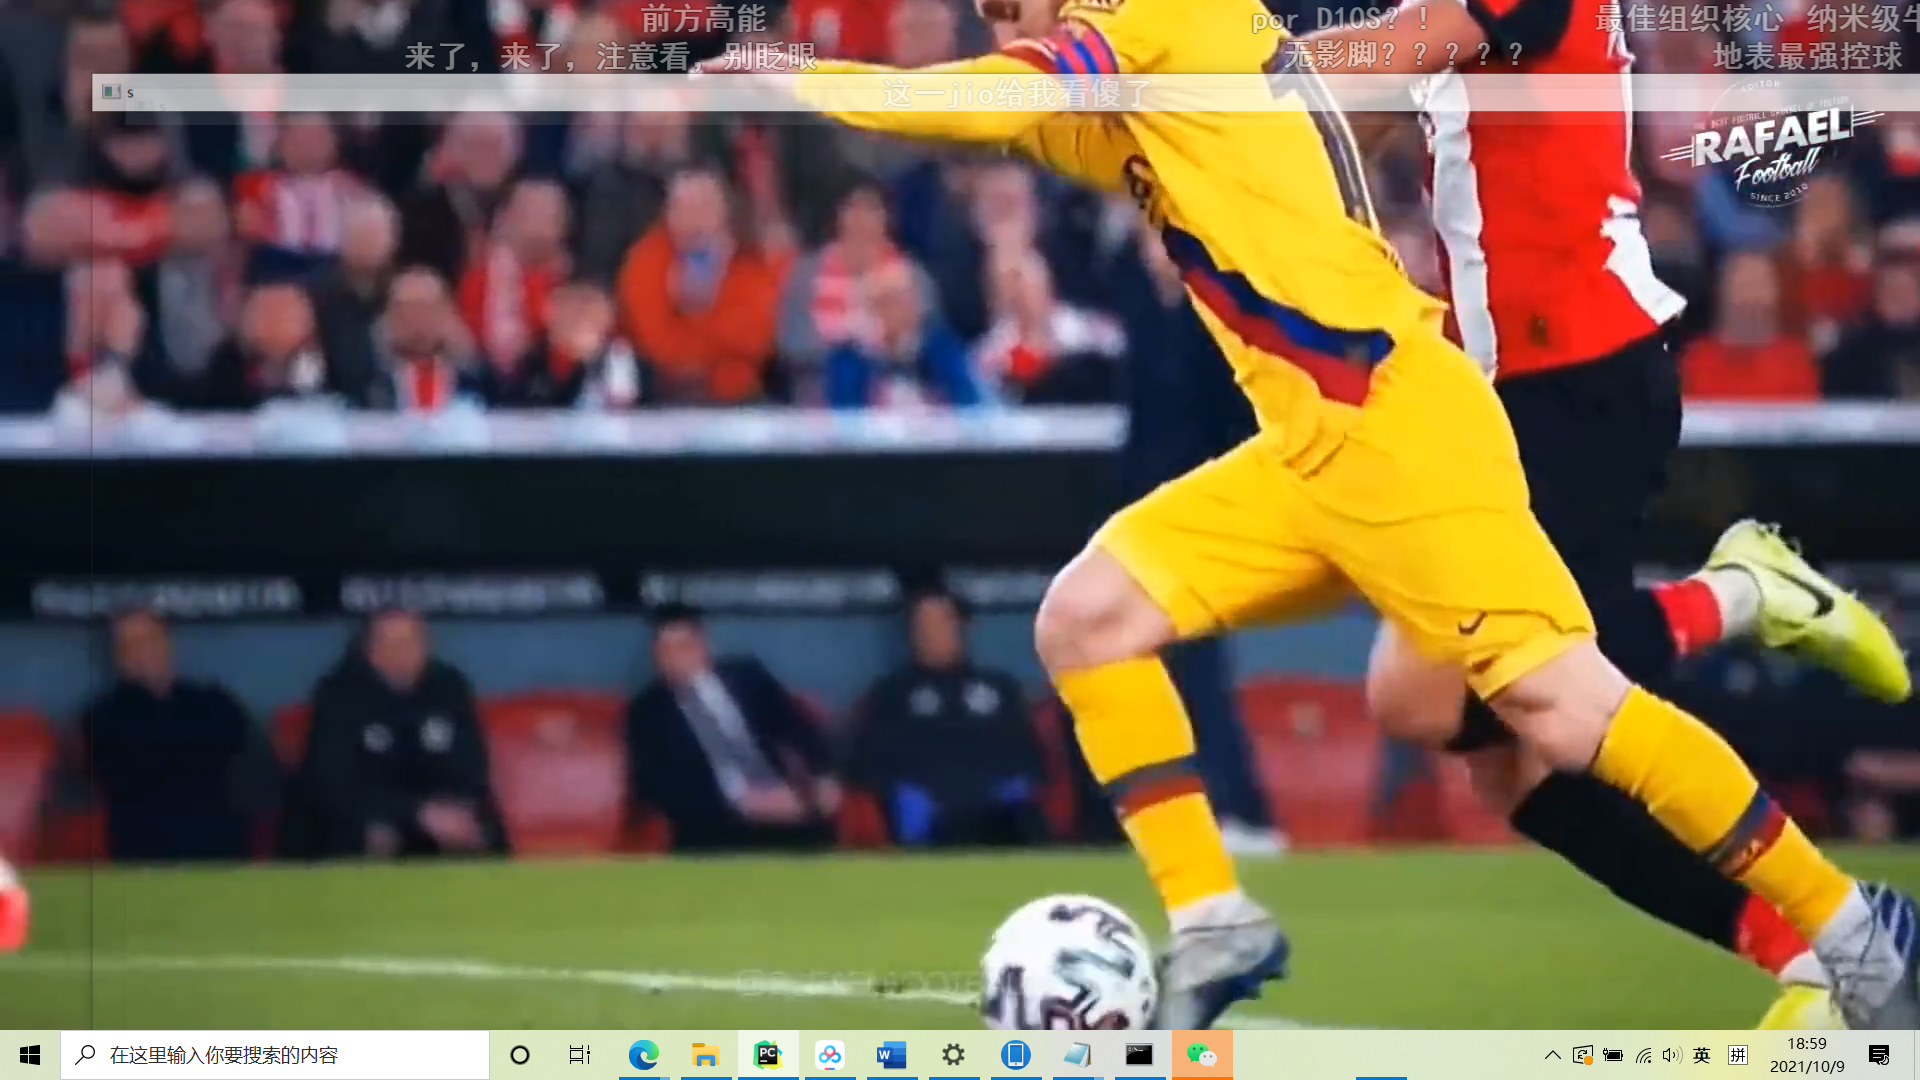ft: (971, 884, 1155, 1029)
